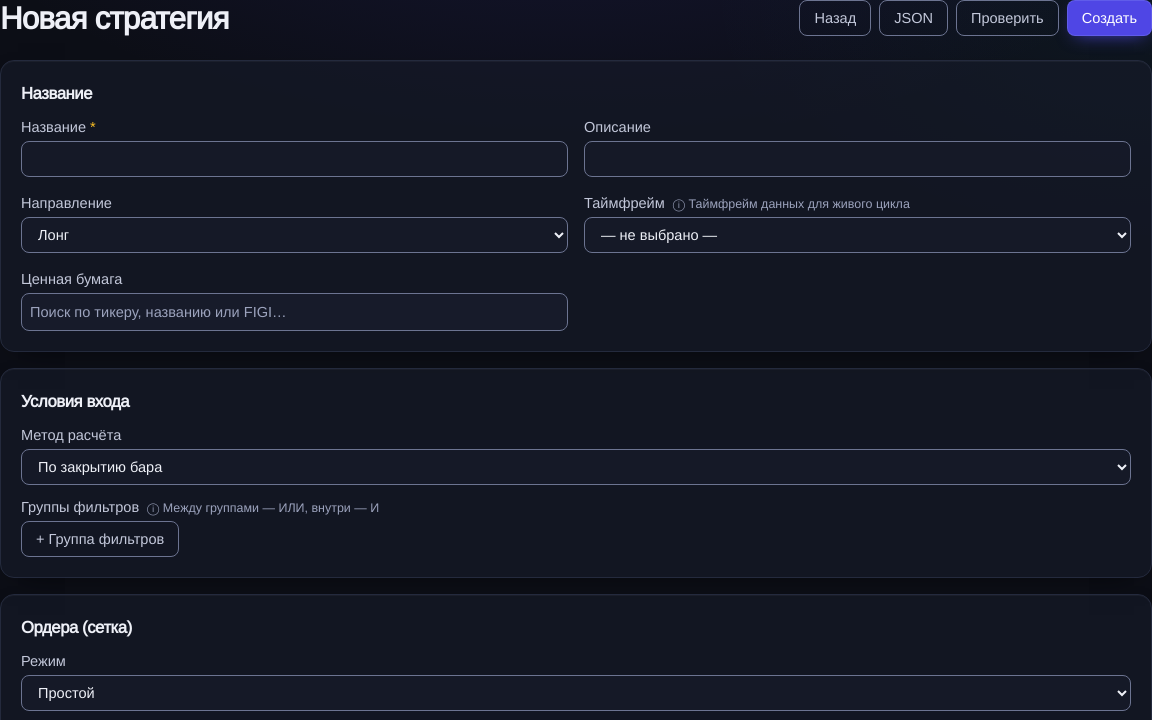
MVP-7.6 F1: lookback_bars › новая стратегия: JSON-режим и тело запроса без lookback_bars
The image size is (1152, 720).
Expected: the heading "Новая стратегия" is shown, [0,0,229,36]
// JSON-шаблон формы не содержит ключ (default: null из схемы выброшен).
Click the button "JSON" at (914, 18), box [879,0,948,36]
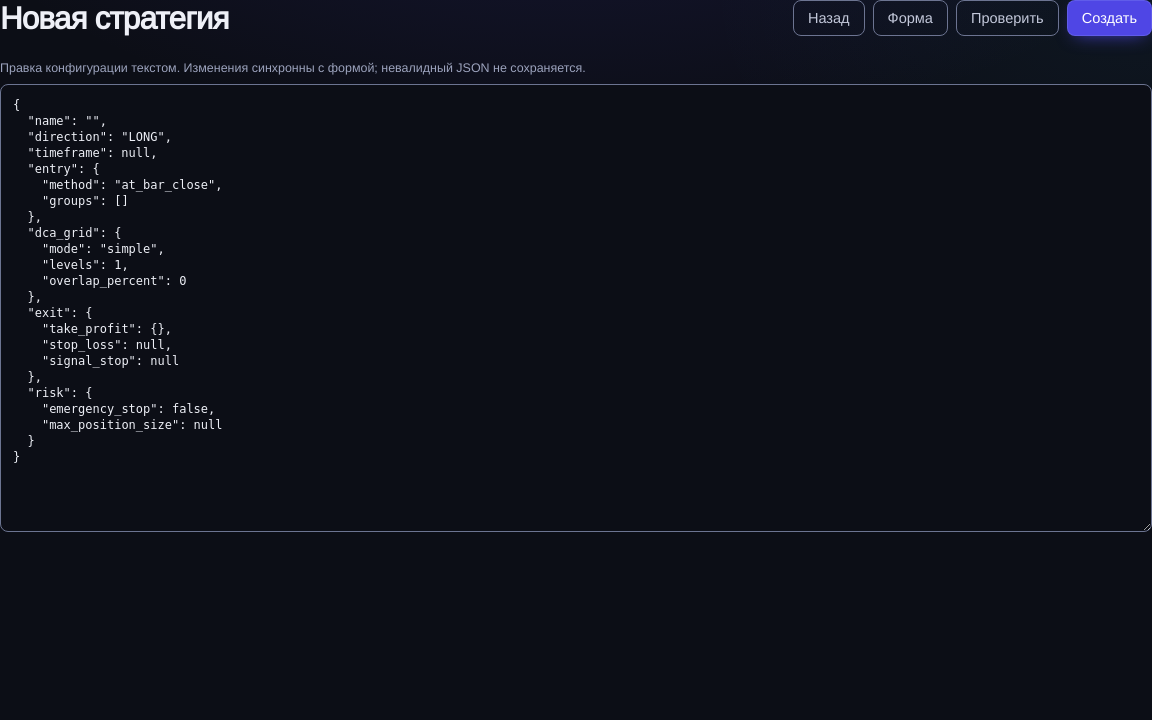
Click the button "Проверить" at (1007, 18), box [956,0,1059,36]
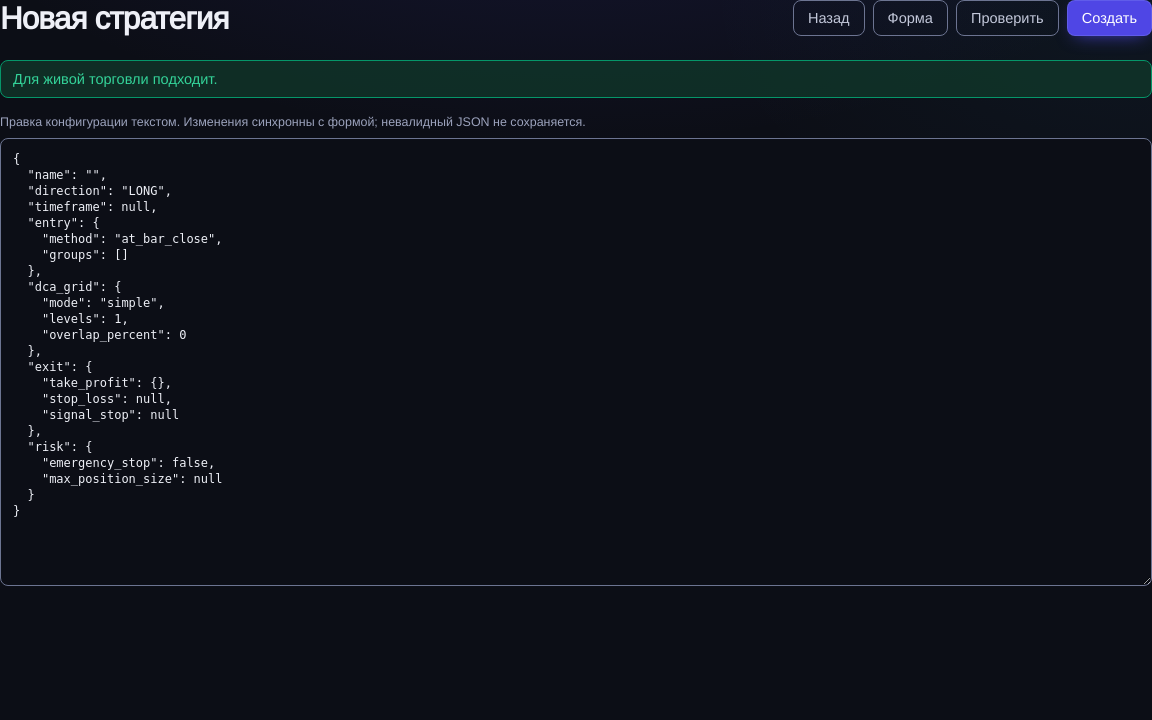
Result: the text "Для живой торговли подходит." is shown at [0,60,1151,98]
